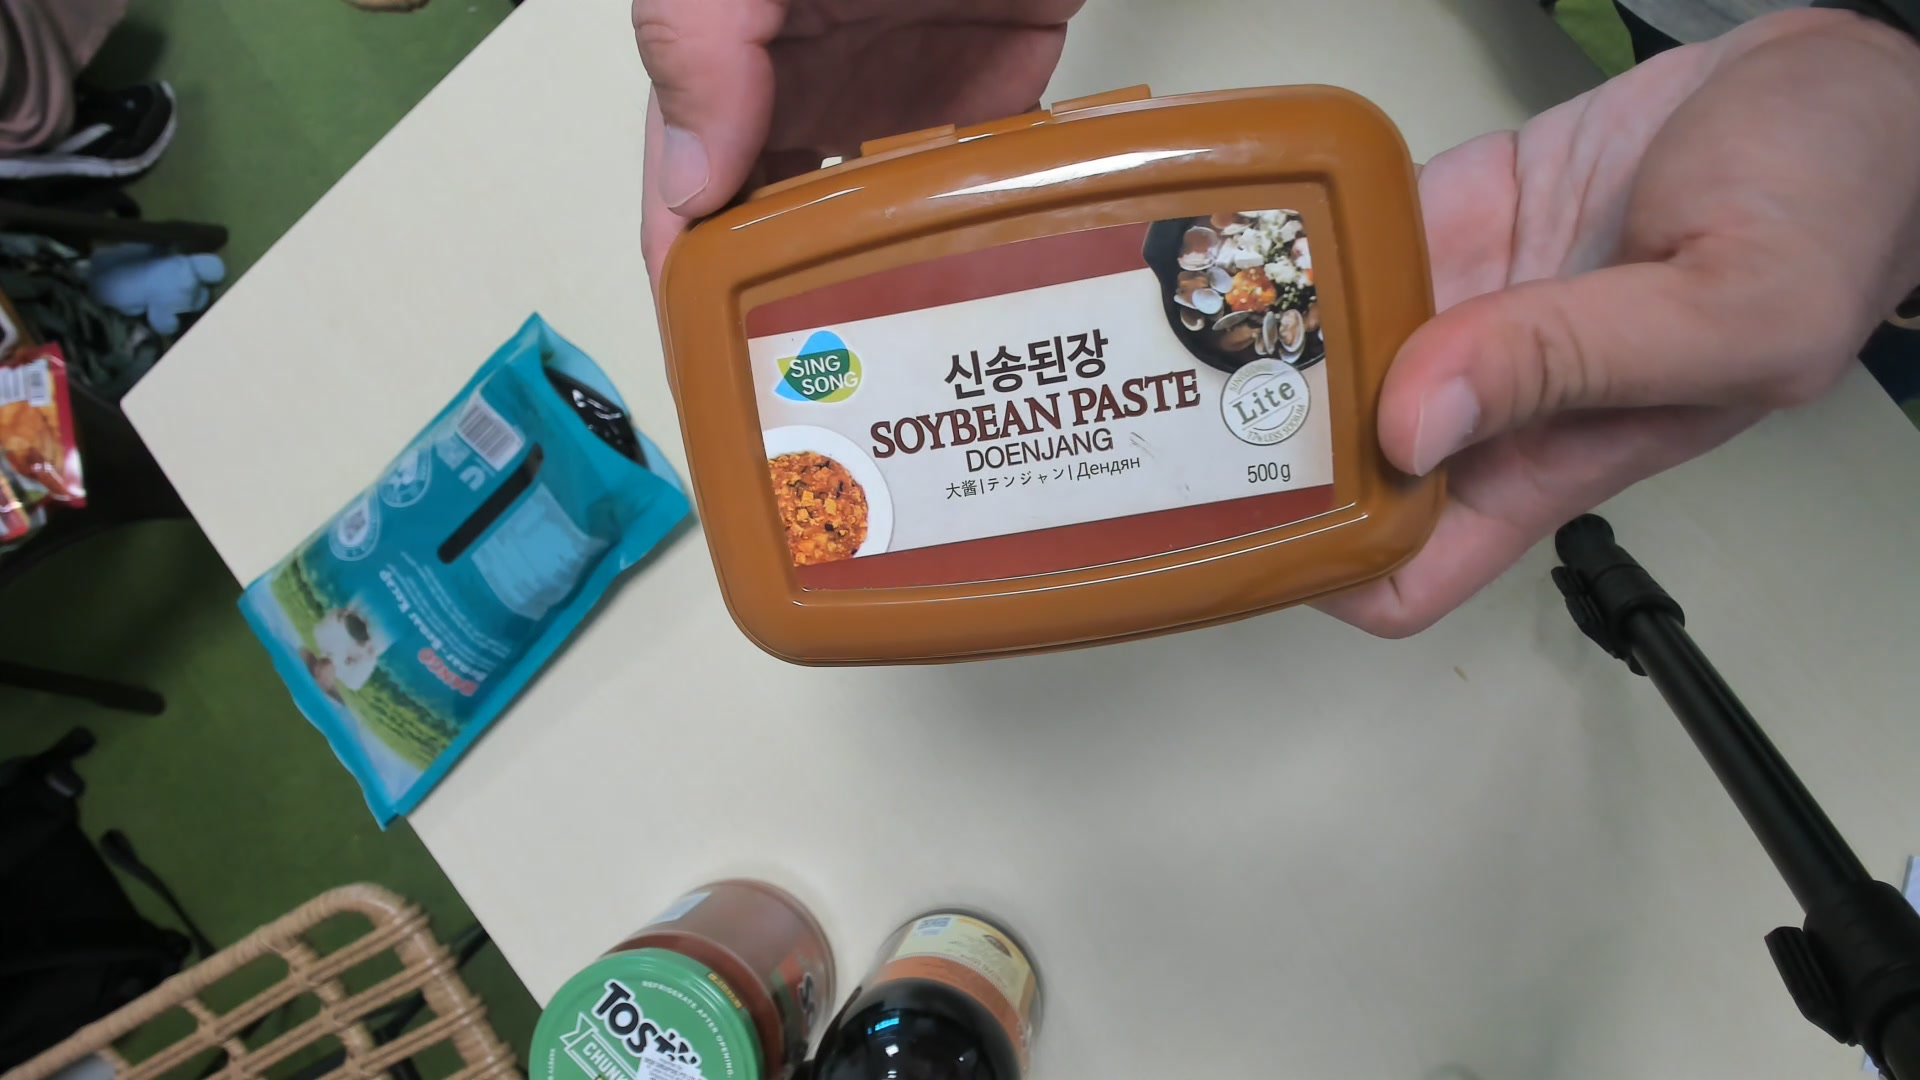OtherSauceDressing_500-599g_NonHalal_NonHealthy: (659, 87, 1441, 676)
